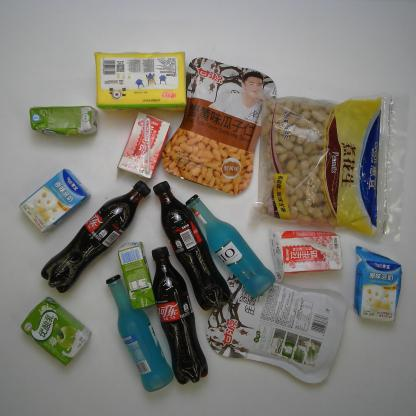Alcohol: (184, 193, 277, 300), (103, 272, 175, 394)
Dried Food: (249, 84, 408, 245)
Dried Fruit: (204, 266, 348, 386), (160, 55, 279, 198)
Drink: (39, 179, 152, 295), (152, 180, 232, 312), (148, 245, 210, 385)
Milk: (20, 296, 93, 368), (18, 167, 91, 236), (265, 225, 344, 283), (352, 244, 404, 324), (115, 110, 171, 180), (116, 240, 158, 312), (29, 104, 100, 139)
Tissue: (93, 49, 188, 113)
